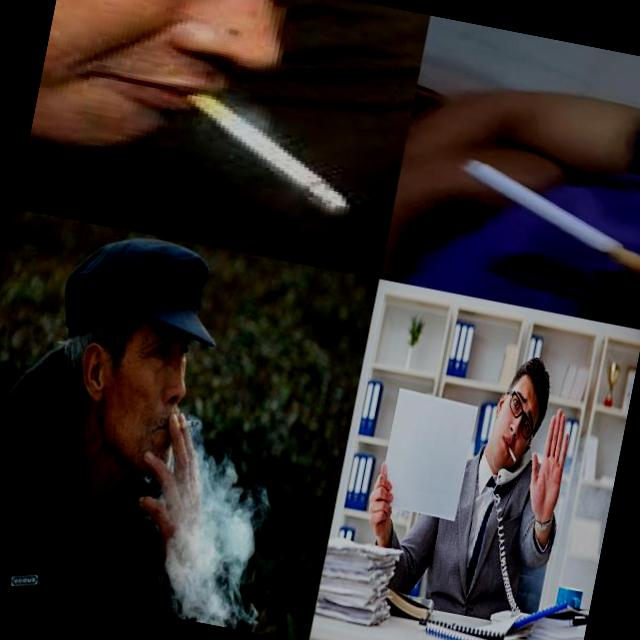cigarette: (137, 73, 382, 224), (450, 159, 640, 287), (168, 414, 200, 438), (506, 446, 520, 464)
